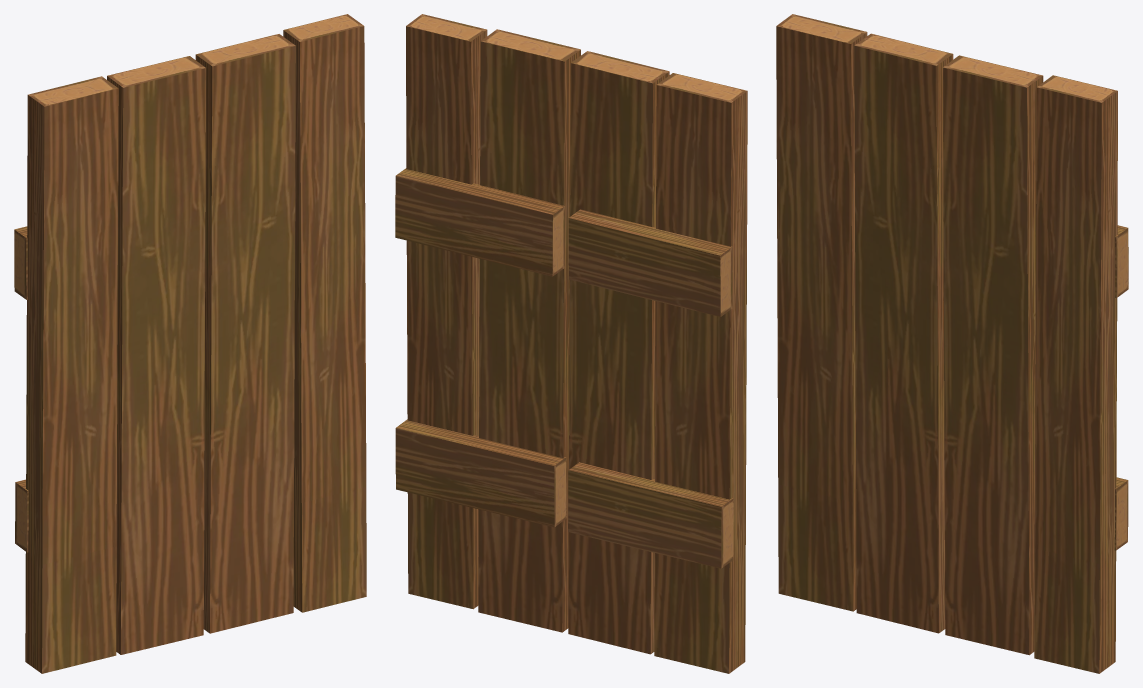
The model's file is WindowShutters_Thin_Flat_Closed.glb.
3 views of the same model, side by side, from view 1: azimuth 30°, elevation 25°; view 2: azimuth 150°, elevation 25°; view 3: azimuth 330°, elevation 25° (orthographic).
Parts seen in each view (by area): view 1: WindowShutters_Thin_Flat_Closed; view 2: WindowShutters_Thin_Flat_Closed; view 3: WindowShutters_Thin_Flat_Closed.
Part boxes in pixels (x1,y1,x2,y2): WindowShutters_Thin_Flat_Closed: [14, 14, 366, 673]; WindowShutters_Thin_Flat_Closed: [395, 14, 747, 673]; WindowShutters_Thin_Flat_Closed: [776, 14, 1128, 673].
Bounding box in the file's own units: 0.8517 × 1.42 × 0.1358.
Materials: 1 (1 with a texture image).
